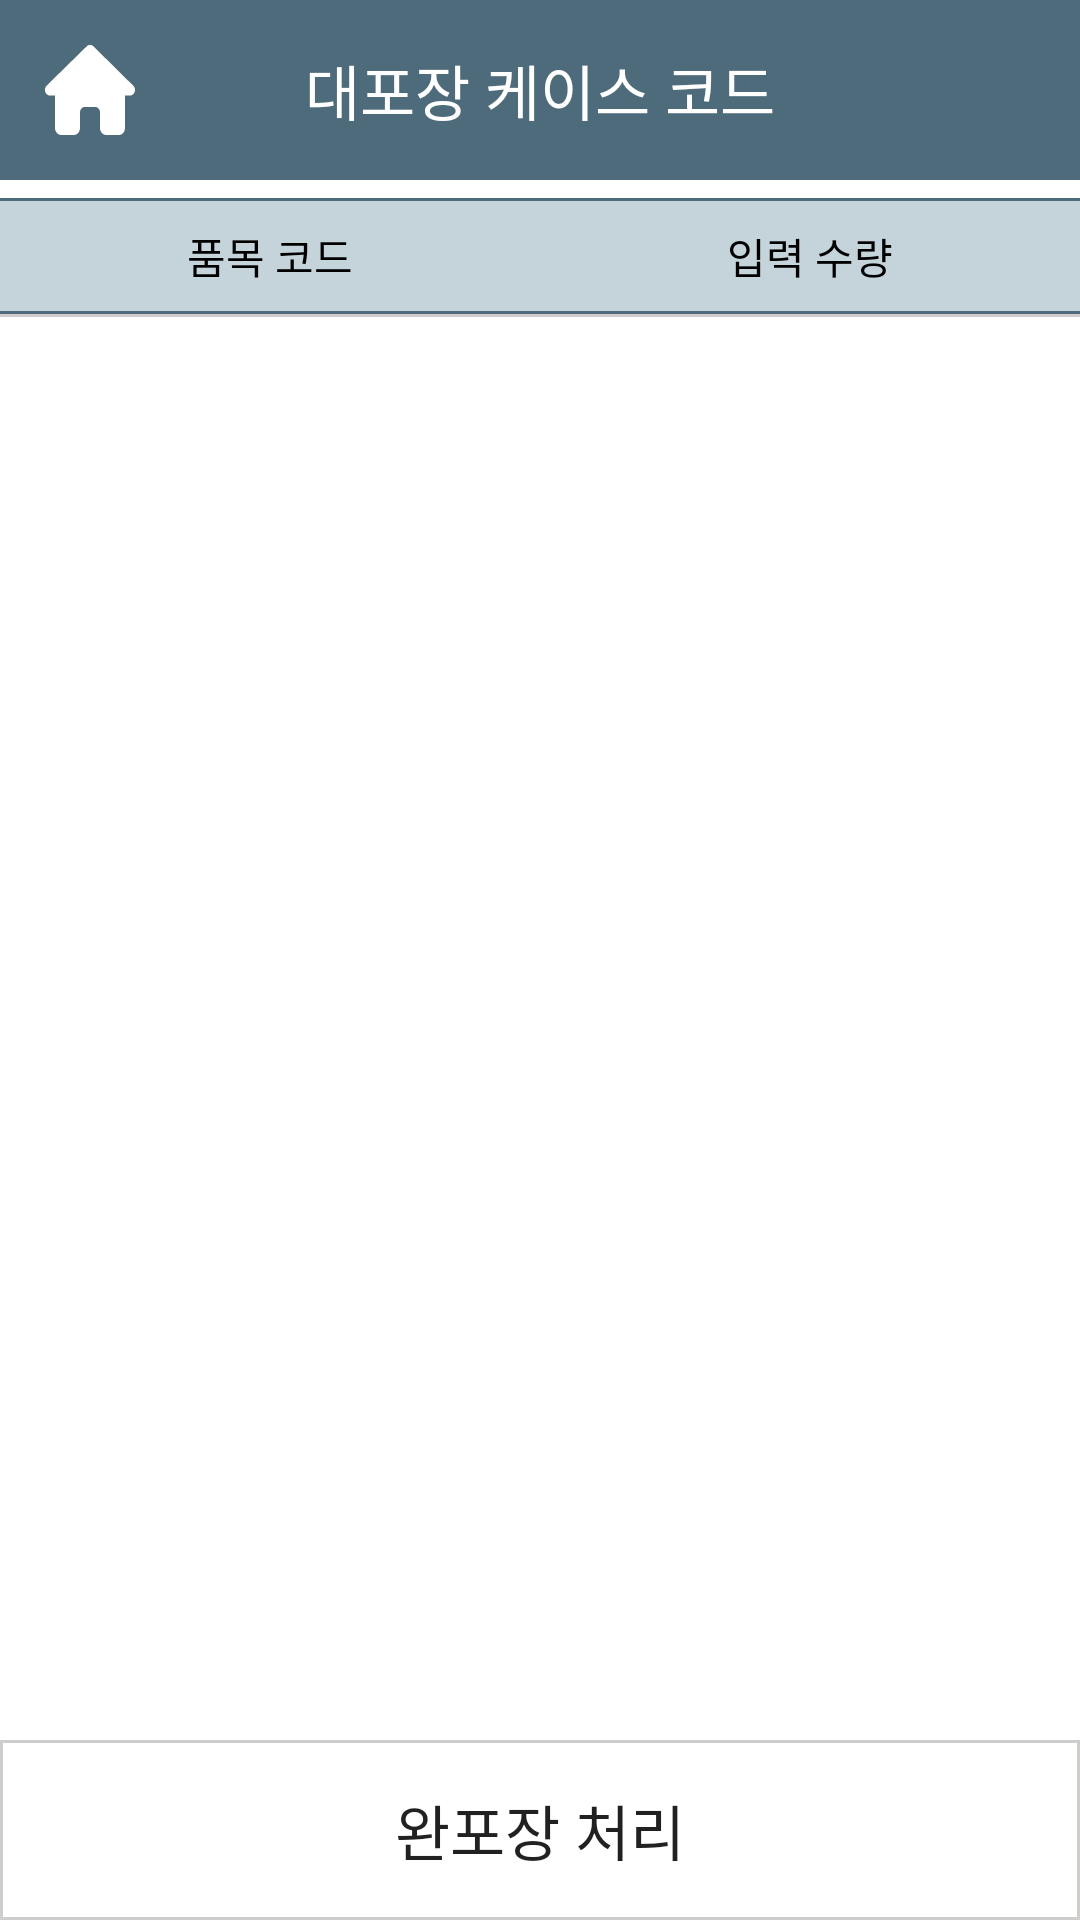

Icon click points for this 1080×1920 phone screenshot, format point (x, y):
house: point (90, 90)
